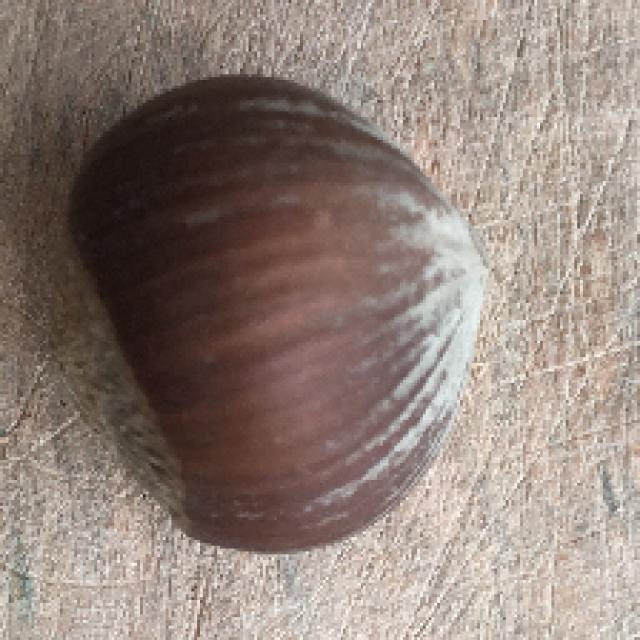damagedHazelnut: (61, 77, 482, 552)
